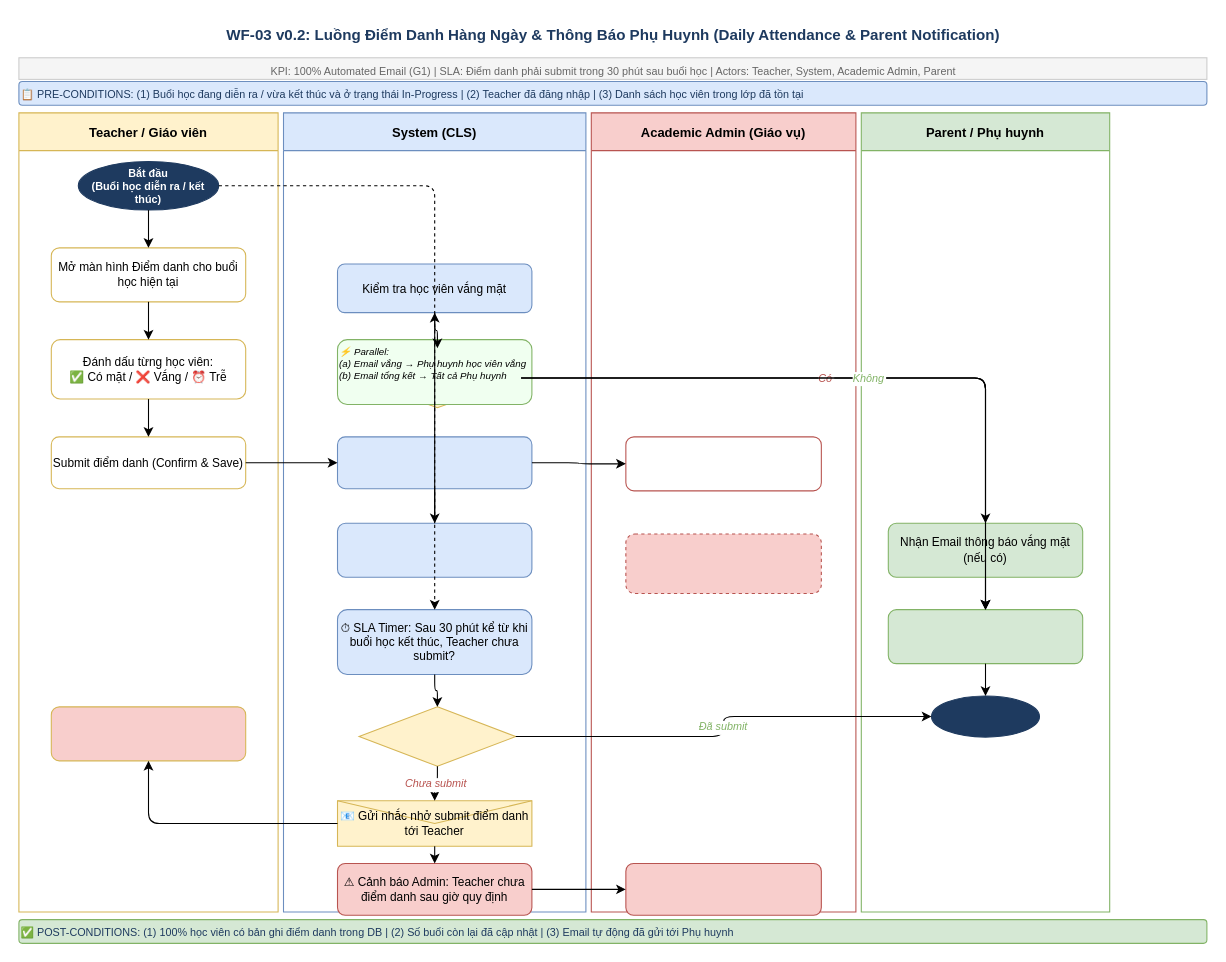
Some shapes in this 1226 by 962 pixel diagram are drawn without their labels. Each missing label, with the box of its shape:
[Tùy chọn] Admin chỉnh sửa điểm danh (Correction Mode) + Ghi audit log: (625, 533, 821, 593)
Chưa submit?: (358, 706, 516, 766)
Cập nhật số buổi học còn lại của từng học viên: (336, 522, 532, 577)
Ghi nhận dữ liệu điểm danh vào DB: (336, 436, 532, 489)
Kết thúc: (930, 695, 1040, 737)
Nhận cảnh báo: Teacher chưa submit điểm danh: (625, 862, 821, 915)
Nhận Email tổng kết điểm danh & số buổi còn lại: (887, 609, 1083, 664)
Xem Dashboard điểm danh tổng hợp (theo lớp, theo ngày): (625, 436, 821, 491)
📱 Nhận nhắc nhở SLA từ System → Mở app và submit ngay: (50, 706, 246, 761)
